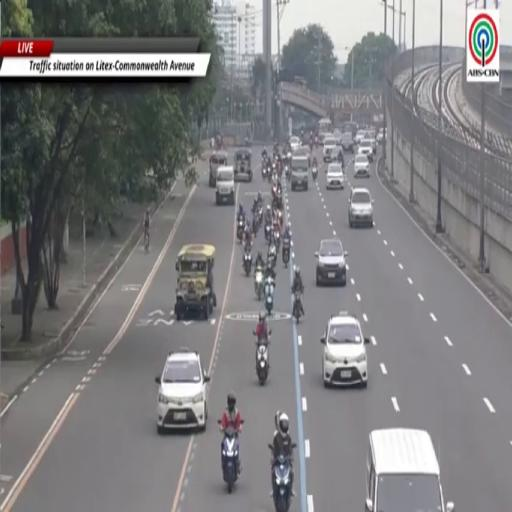bus: (317, 118, 332, 145)
car: (156, 348, 209, 434), (321, 312, 369, 387), (315, 238, 347, 286), (348, 188, 373, 228), (215, 165, 236, 205), (291, 156, 308, 190), (326, 164, 344, 189), (323, 137, 339, 162), (354, 154, 369, 178), (358, 139, 373, 162), (294, 146, 311, 166), (365, 131, 377, 154), (341, 133, 354, 153), (289, 136, 301, 152), (333, 130, 342, 146), (376, 128, 384, 143), (355, 131, 364, 144)
jeepney: (175, 245, 216, 321), (209, 151, 227, 187), (234, 149, 253, 182)
motorcycle: (222, 427, 239, 493), (273, 455, 292, 511), (256, 340, 269, 385), (264, 277, 274, 314), (293, 290, 302, 324), (243, 247, 252, 276), (255, 268, 263, 299), (282, 238, 290, 267), (268, 245, 276, 267), (237, 219, 244, 244), (267, 164, 275, 183), (252, 213, 258, 236), (277, 207, 283, 229), (274, 229, 280, 250), (265, 224, 272, 242), (258, 205, 263, 226), (285, 166, 291, 182), (312, 167, 317, 181), (262, 165, 266, 181)
